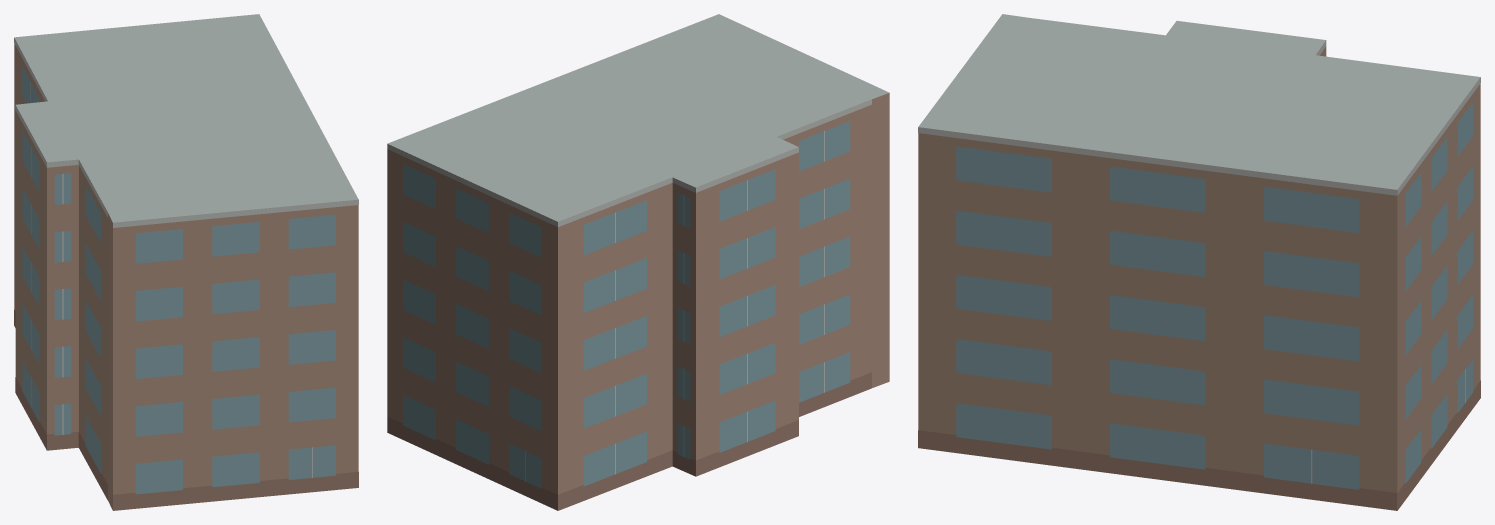
Rendered from survey-upis-32795453.glb.
The picture shows the model from 3 angles, left to right: view 1: azimuth 30°, elevation 25°; view 2: azimuth 150°, elevation 25°; view 3: azimuth 270°, elevation 25°; orthographic projection. The views are drawn at different scales.
Visible parts, largest first — view 1: survey-upis-32795453.tmp; view 2: survey-upis-32795453.tmp; view 3: survey-upis-32795453.tmp.
Part boxes in pixels (x1,y1,x2,y2): survey-upis-32795453.tmp: (14,14,358,510); survey-upis-32795453.tmp: (387,14,889,510); survey-upis-32795453.tmp: (918,14,1480,510).
Bounding box in the file's own units: 15.64 × 13.3 × 21.14.
